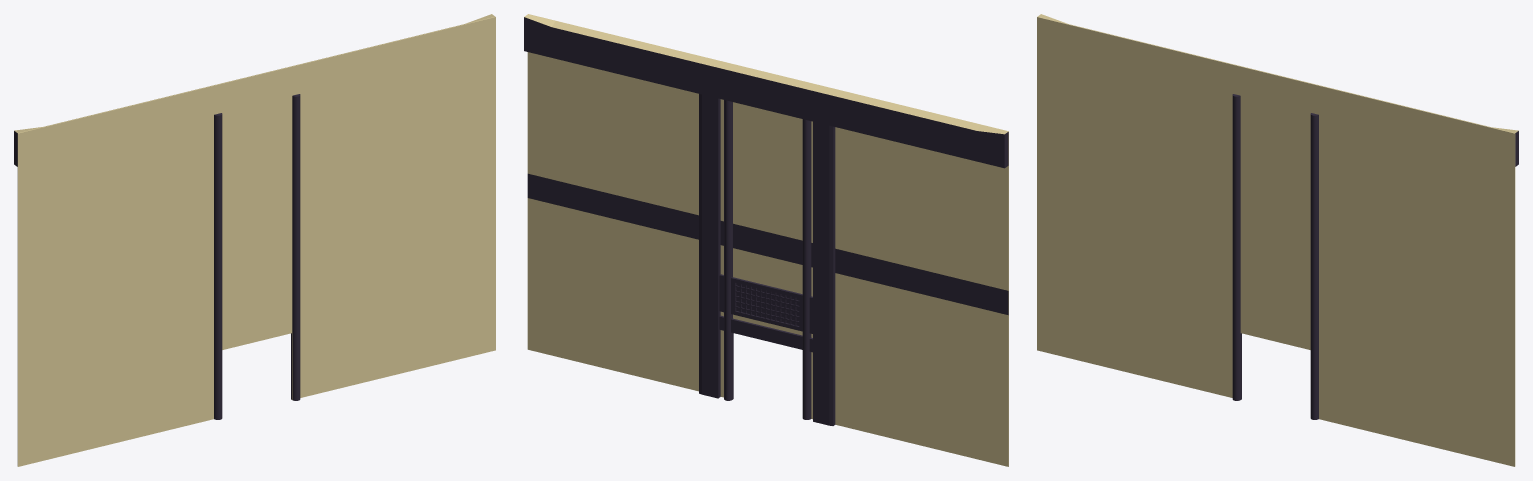
The model's file is Front wall.fbx.
3 renders of one model, left to right at view 1: azimuth 30°, elevation 25°; view 2: azimuth 150°, elevation 25°; view 3: azimuth 330°, elevation 25°, orthographic.
Visible parts, largest first — view 1: Cube.075; view 2: Cube.075; view 3: Cube.075.
Boxes of the visible parts, x1,y1,x2,y2 form: Cube.075: [14, 14, 495, 466]; Cube.075: [524, 14, 1008, 466]; Cube.075: [1037, 14, 1518, 466].
Size of the model in its own units: 1800 by 1200 by 41.38.
